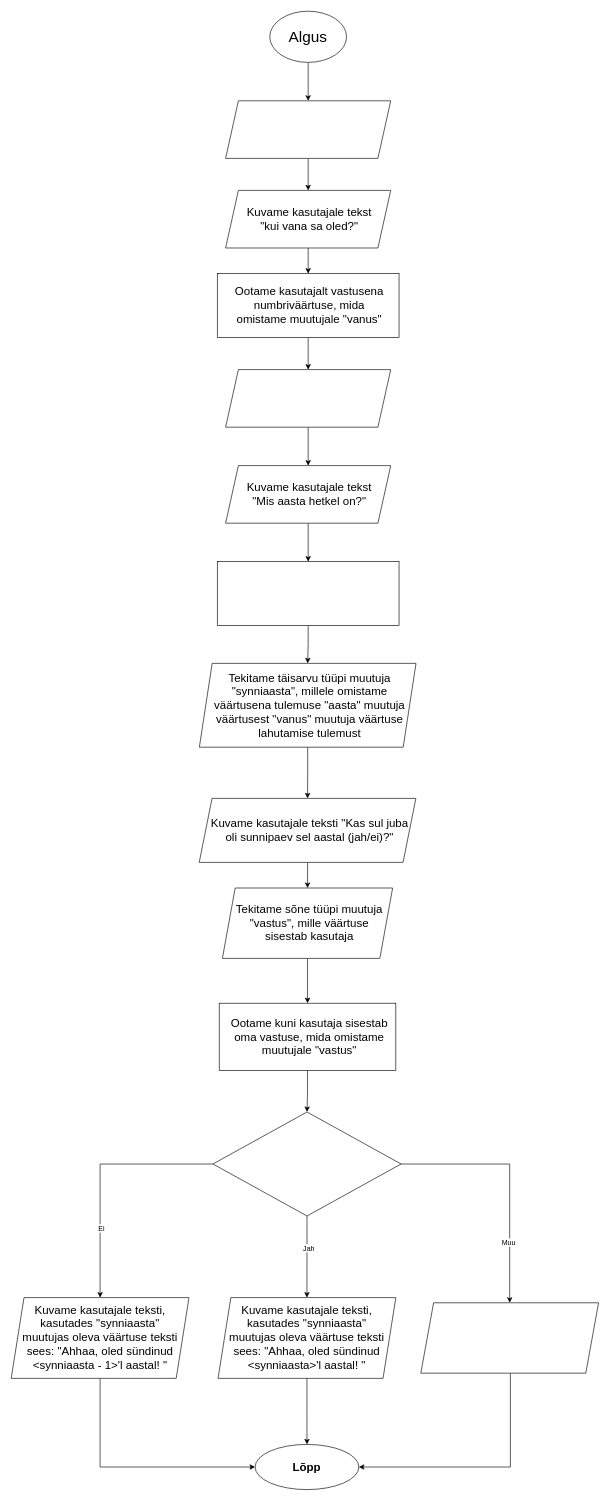
The diagram is 610 pixels wide and 1501 high, and some of its shapes have lost their labels. The shapes that lost their labels are listed below. From the top down, each one's centre as x and y in pixels, then its label:
pixel 308 129: Tekitame täisarvu tüüpi muutuja "vanus", millele omistame algväärtusena 0
pixel 308 398: Tekitame täisarvu tüüpi muutuja "aasta", millele omistame algväärtusena 0
pixel 308 593: Ootame kasutajalt vastusena numbriväärtuse, mida omistame muutujale "aasta"
pixel 306 1163: Kas muutujas "vastus" on väärtus "jah", "ei", või midagi muud?
pixel 509 1337: Kuvame kasutajale teksti "Sa ei tea millal su synna on? :'("
